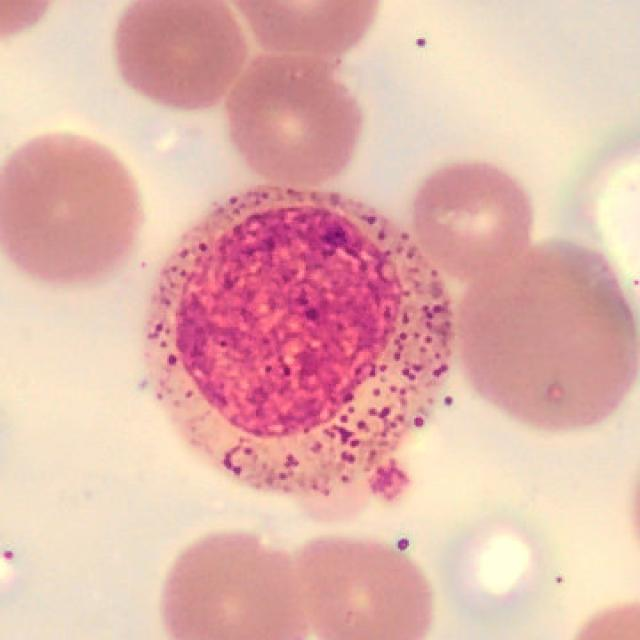Promielocito: (142, 188, 455, 500)
